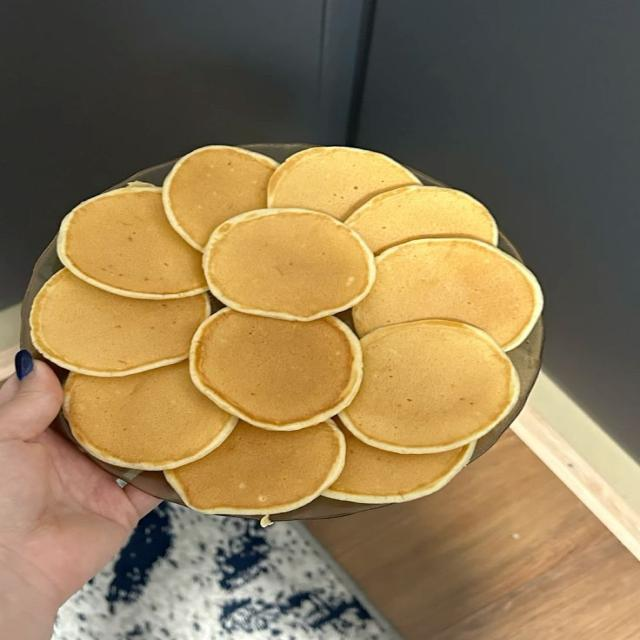pancake: (340, 320, 519, 454), (353, 239, 542, 350), (190, 308, 361, 430), (30, 269, 210, 376), (203, 209, 374, 320), (64, 362, 237, 470), (166, 421, 345, 514), (58, 186, 206, 298), (163, 146, 278, 250), (323, 429, 474, 503), (268, 147, 419, 220), (346, 186, 498, 253)
